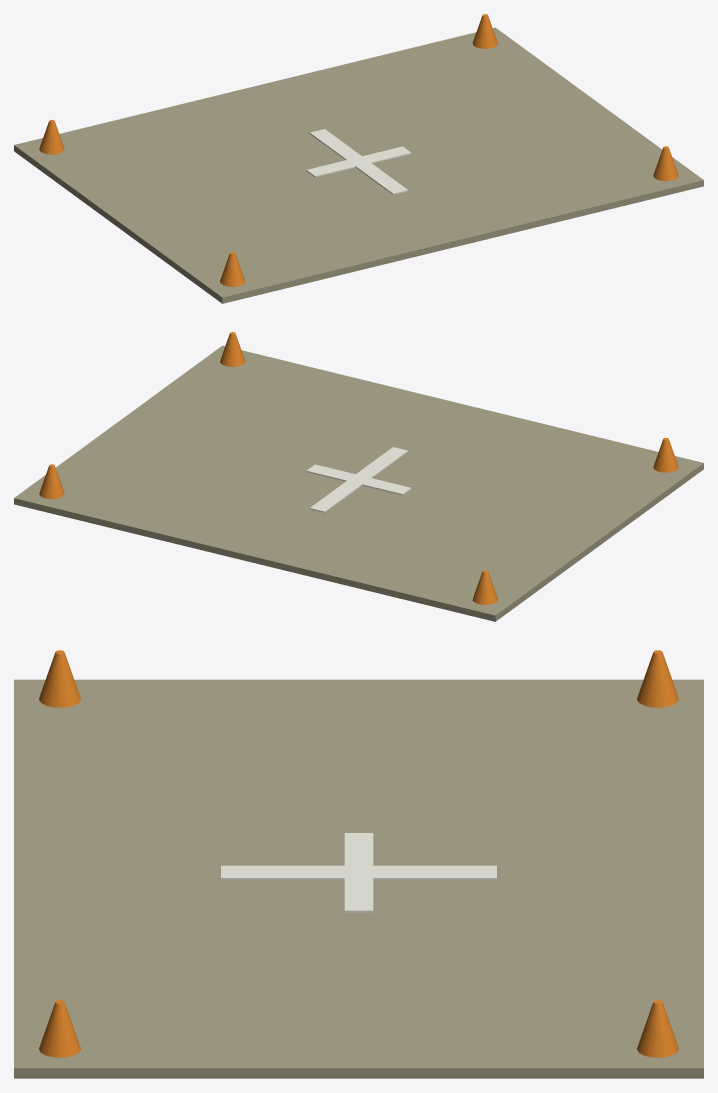
Rendered from build_pad.glb.
The picture shows the model from 3 angles, top to bottom: view 1: azimuth 30°, elevation 25°; view 2: azimuth 150°, elevation 25°; view 3: azimuth 270°, elevation 25°; orthographic projection. The views are drawn at different scales.
Parts seen in each view (by area): view 1: _MeshInstance3D_38, _MeshInstance3D_43, _MeshInstance3D_44, _MeshInstance3D_39, _MeshInstance3D_40, _MeshInstance3D_42, _MeshInstance3D_41; view 2: _MeshInstance3D_38, _MeshInstance3D_43, _MeshInstance3D_44, _MeshInstance3D_42, _MeshInstance3D_39, _MeshInstance3D_41, _MeshInstance3D_40; view 3: _MeshInstance3D_38, _MeshInstance3D_43, _MeshInstance3D_44, _MeshInstance3D_40, _MeshInstance3D_41, _MeshInstance3D_39, _MeshInstance3D_42.
Boxes of the visible parts, x1=… form: _MeshInstance3D_38: x1=14, y1=27, x2=703, y2=303; _MeshInstance3D_43: x1=309, y1=129, x2=408, y2=194; _MeshInstance3D_44: x1=306, y1=146, x2=411, y2=177; _MeshInstance3D_39: x1=39, y1=120, x2=64, y2=154; _MeshInstance3D_40: x1=472, y1=14, x2=497, y2=48; _MeshInstance3D_42: x1=220, y1=252, x2=245, y2=286; _MeshInstance3D_41: x1=653, y1=146, x2=678, y2=181; _MeshInstance3D_38: x1=14, y1=345, x2=703, y2=621; _MeshInstance3D_43: x1=309, y1=447, x2=408, y2=512; _MeshInstance3D_44: x1=306, y1=464, x2=411, y2=495; _MeshInstance3D_42: x1=653, y1=438, x2=678, y2=472; _MeshInstance3D_39: x1=472, y1=570, x2=497, y2=604; _MeshInstance3D_41: x1=220, y1=332, x2=245, y2=366; _MeshInstance3D_40: x1=39, y1=464, x2=64, y2=499; _MeshInstance3D_38: x1=14, y1=679, x2=703, y2=1078; _MeshInstance3D_43: x1=221, y1=865, x2=496, y2=879; _MeshInstance3D_44: x1=344, y1=833, x2=373, y2=912; _MeshInstance3D_40: x1=637, y1=1000, x2=678, y2=1057; _MeshInstance3D_41: x1=39, y1=1000, x2=80, y2=1057; _MeshInstance3D_39: x1=637, y1=650, x2=678, y2=707; _MeshInstance3D_42: x1=39, y1=650, x2=80, y2=707.
Size of the model in its own units: 8 by 0.55 by 6.
